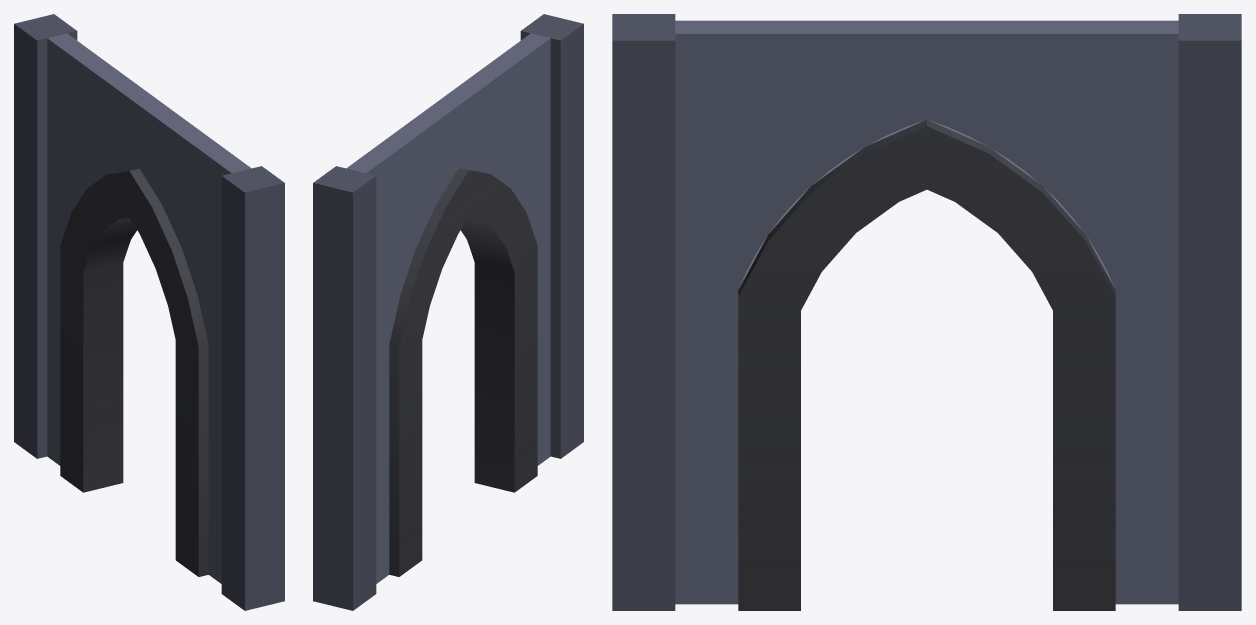
Rendered from wall-wood-doorway-round.glb.
3 views of the same model, side by side, from view 1: azimuth 30°, elevation 25°; view 2: azimuth 150°, elevation 25°; view 3: azimuth 270°, elevation 25° (orthographic). The views are drawn at different scales.
Parts seen in each view (by area): view 1: wall-wood-doorway-round; view 2: wall-wood-doorway-round; view 3: wall-wood-doorway-round.
Part boxes in pixels (bbox=[...]): wall-wood-doorway-round: bbox=[14, 14, 284, 610]; wall-wood-doorway-round: bbox=[313, 14, 583, 610]; wall-wood-doorway-round: bbox=[612, 14, 1241, 610].
Bounding box in the file's own units: 0.1 × 1 × 1.
1 material, 1 textured.
